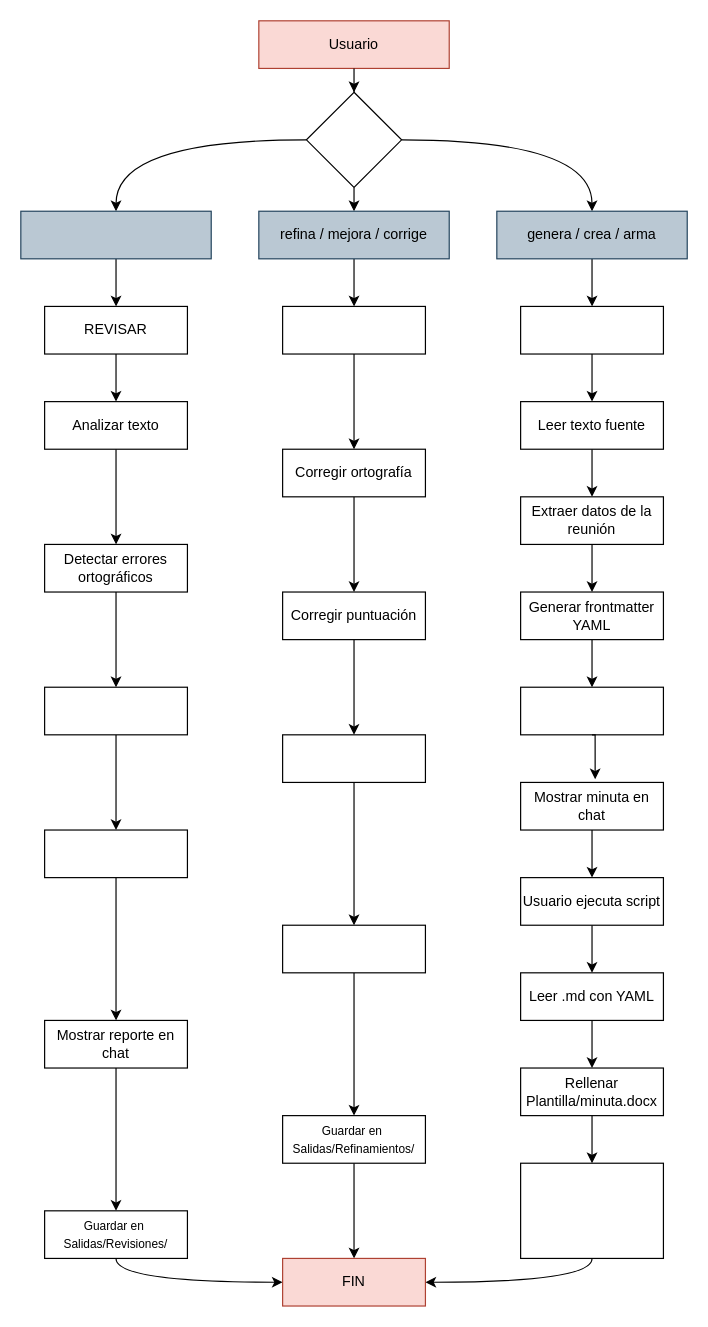
This 708x1327 diagram has some shape labels left out. The centre of each missing label's shape, as x and y in pixels:
"Corregir redacción" goes at (353,758).
"Detectar problemas de redacción" goes at (115,710).
"Escribir Intermedios/minuta-YYYY-MM-DD.md" goes at (591,710).
"GENERAR" goes at (591,329).
"Guardar en Salidas/Documentos/ minuta-YYYY-MM-DD.docx" goes at (591,1210).
"Mostrar texto en chat" goes at (353,948).
"REFINAR" goes at (353,329).
"revisa / analiza / evalúa" goes at (115,234).
"Sugerencias de mejora" goes at (115,853).
"¿Qué pide?" goes at (353,139).
